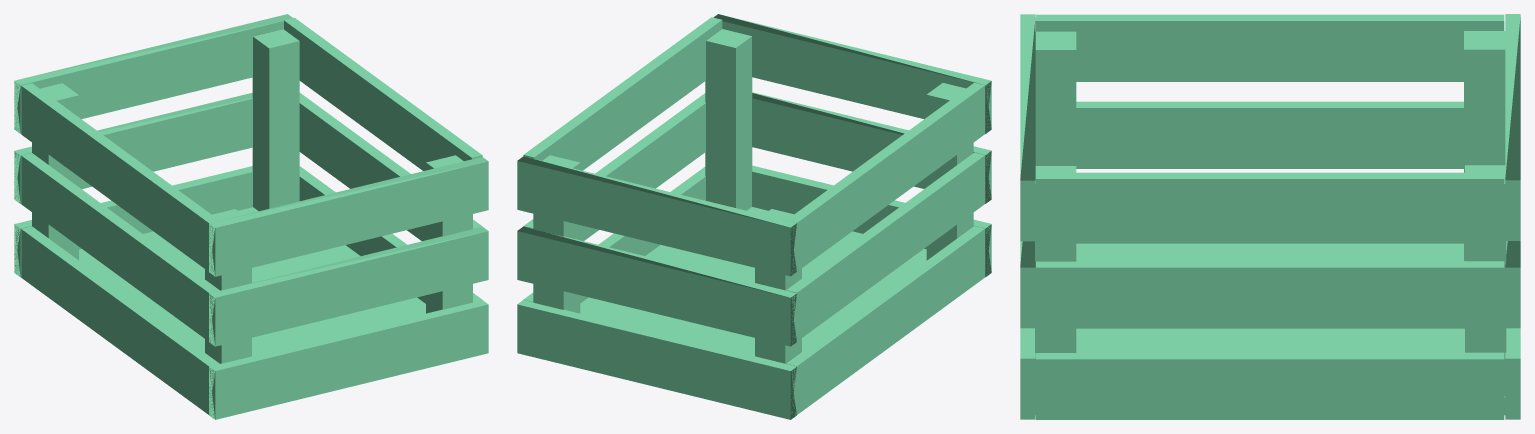
The model's file is laatikko.fbx.
The picture shows the model from 3 angles, left to right: view 1: azimuth 30°, elevation 25°; view 2: azimuth 150°, elevation 25°; view 3: azimuth 270°, elevation 25°; orthographic projection. The views are drawn at different scales.
Parts seen in each view (by area): view 1: Cube; view 2: Cube; view 3: Cube.
Boxes of the visible parts, left/top/right/bottom form: Cube: left=14, top=14, right=488, bottom=419; Cube: left=517, top=14, right=991, bottom=419; Cube: left=1020, top=14, right=1520, bottom=419.
Bounding box in the file's own units: 165 × 112 × 210.
